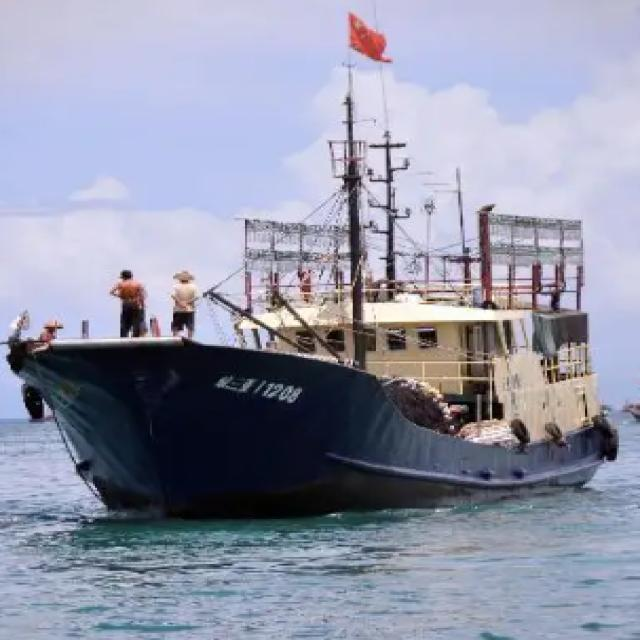fishing boat: (30, 59, 624, 512)
